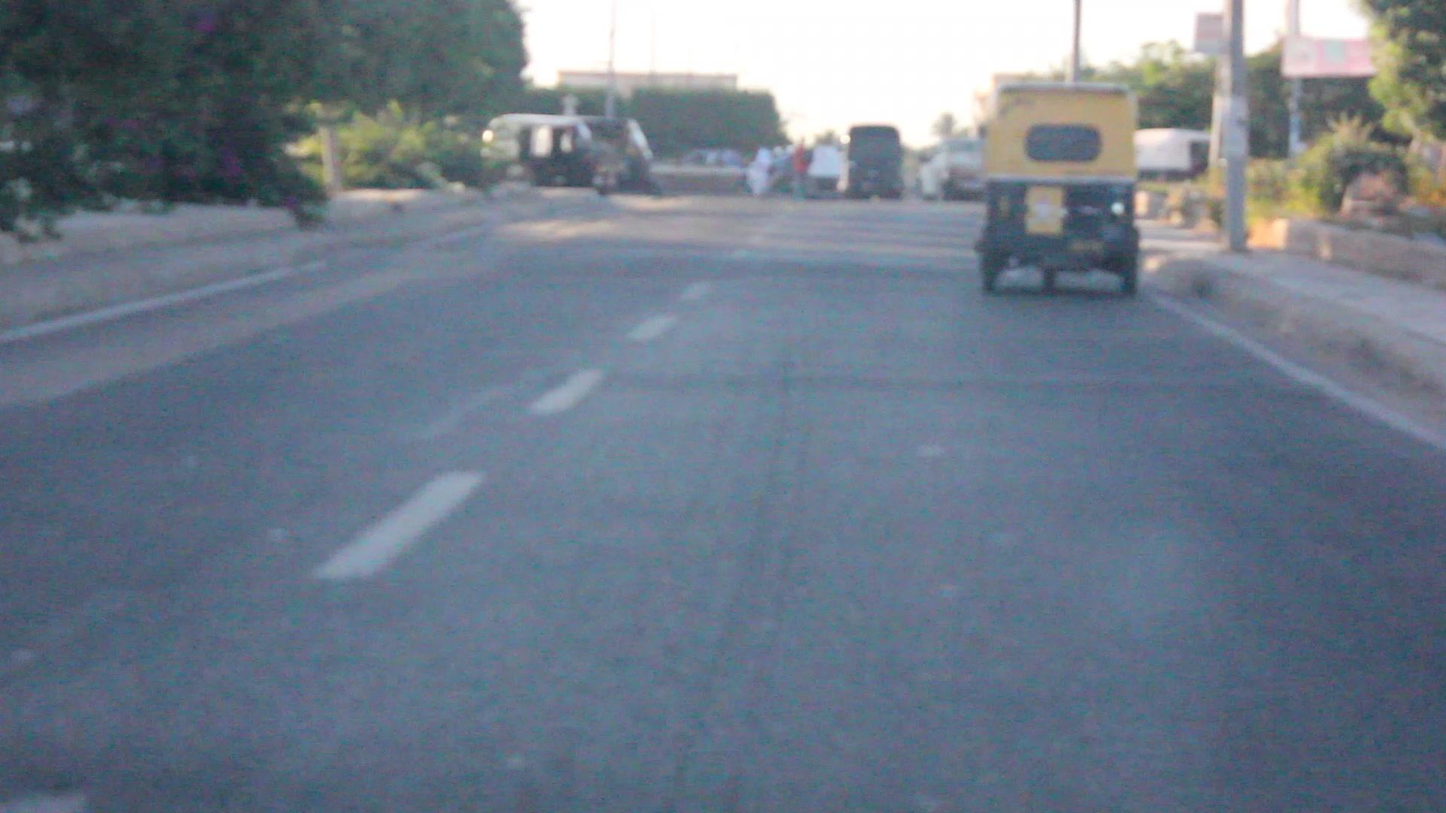Bump: (319, 248, 982, 287)
